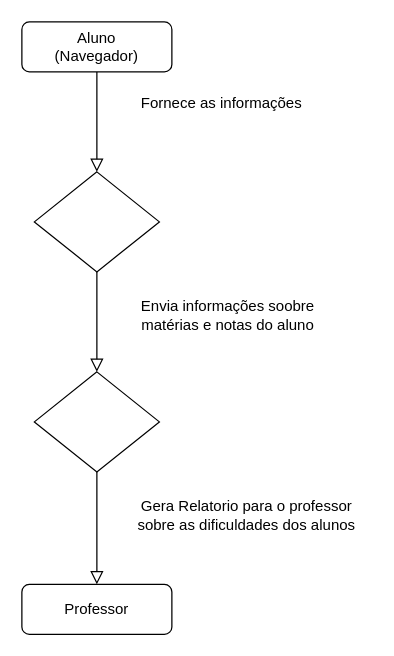
Image size: 394x656. Some labels were removed from this diagram. The centre of each missing label's shape, as x and y in pixels:
"Agente para Aluno" goes at point 96,221.
"Agente para Professor" goes at point 96,421.
